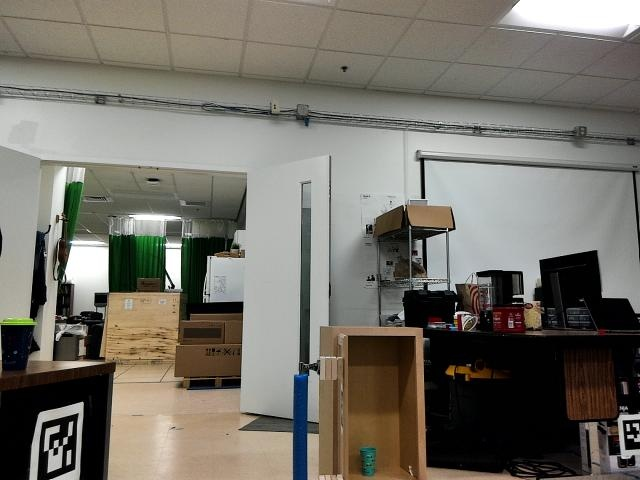coffee_cup: (358, 444, 379, 476)
noodle_handle: (288, 366, 314, 480)
useless_cup: (1, 317, 37, 371)
